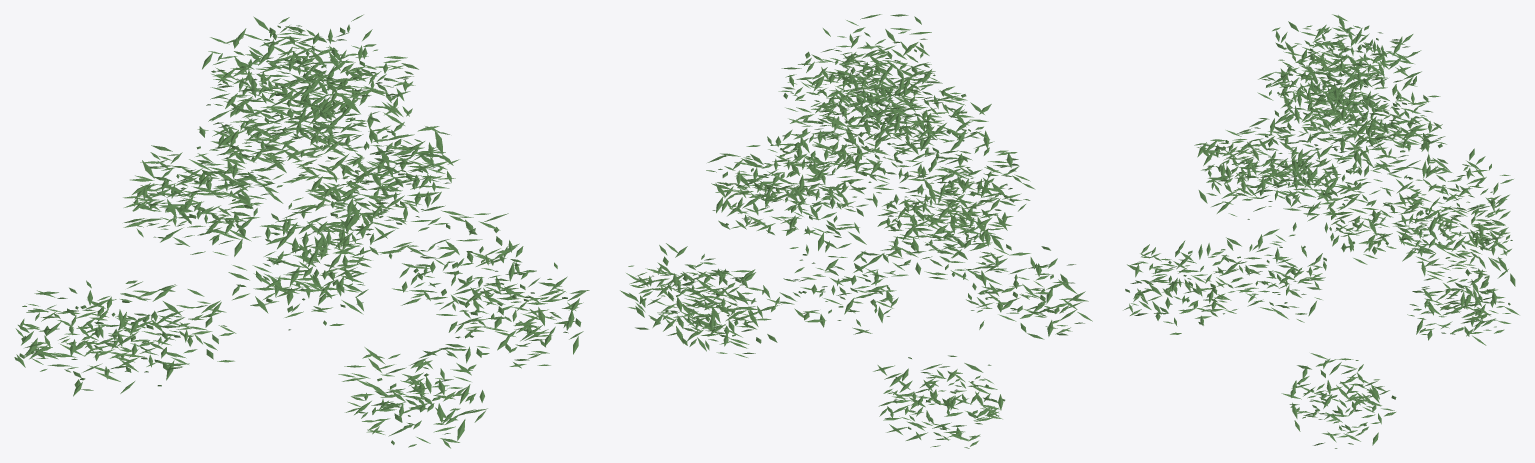
Rendered from teaching3-vegetation-08-near.glb.
The picture shows the model from 3 angles, left to right: view 1: azimuth 30°, elevation 25°; view 2: azimuth 150°, elevation 25°; view 3: azimuth 270°, elevation 25°; orthographic projection. The views are drawn at different scales.
Visible parts, largest first — view 1: vegetation cedar leaves.002; view 2: vegetation cedar leaves.002; view 3: vegetation cedar leaves.002.
Part boxes in pixels (x1,y1,x2,y2): vegetation cedar leaves.002: [14, 14, 589, 448]; vegetation cedar leaves.002: [620, 14, 1092, 448]; vegetation cedar leaves.002: [1123, 14, 1519, 448].
Bounding box in the file's own units: 12.14 × 8.77 × 10.05.
